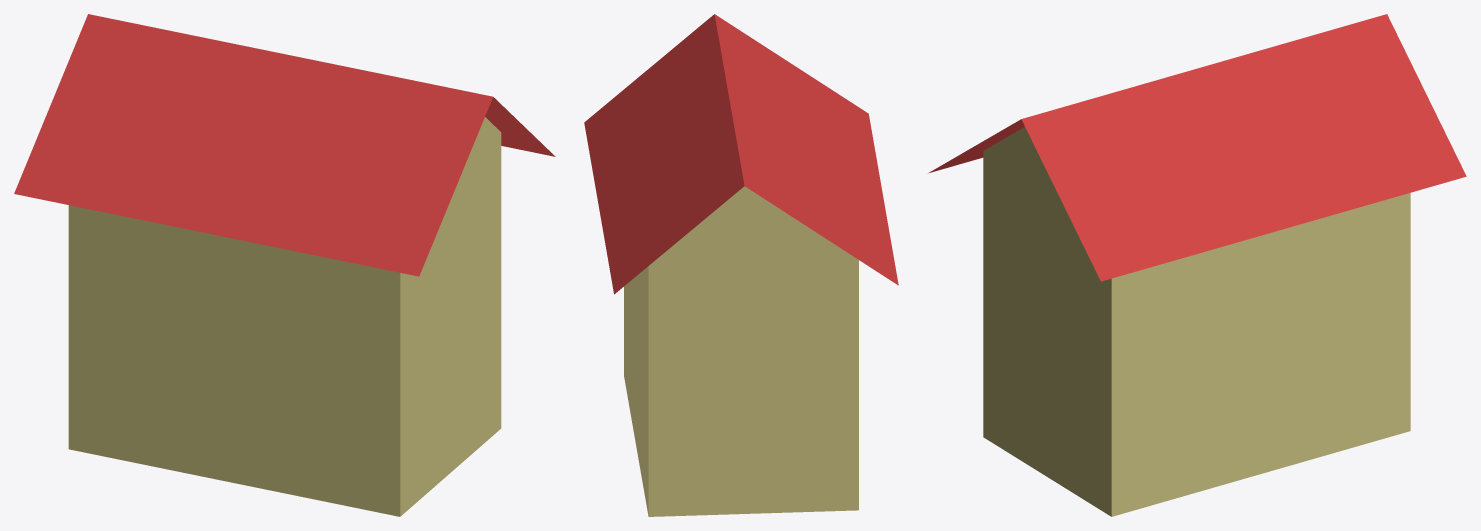
3 views of the same model, side by side, from view 1: azimuth 30°, elevation 25°; view 2: azimuth 150°, elevation 25°; view 3: azimuth 270°, elevation 25° (orthographic). The views are drawn at different scales.
Bounding box in the file's own units: 9.38 × 10.04 × 7.64.
